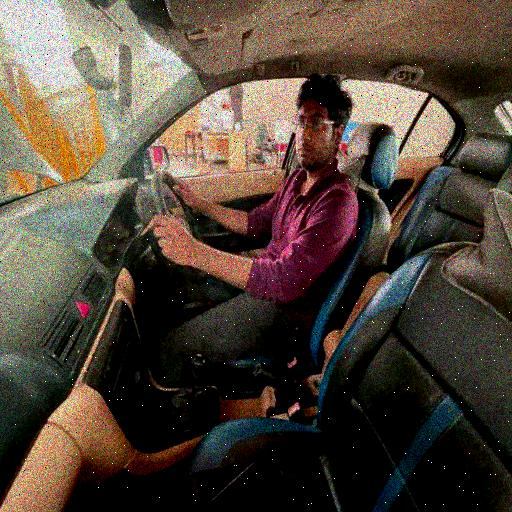Reaching_behind: (142, 69, 361, 385)
